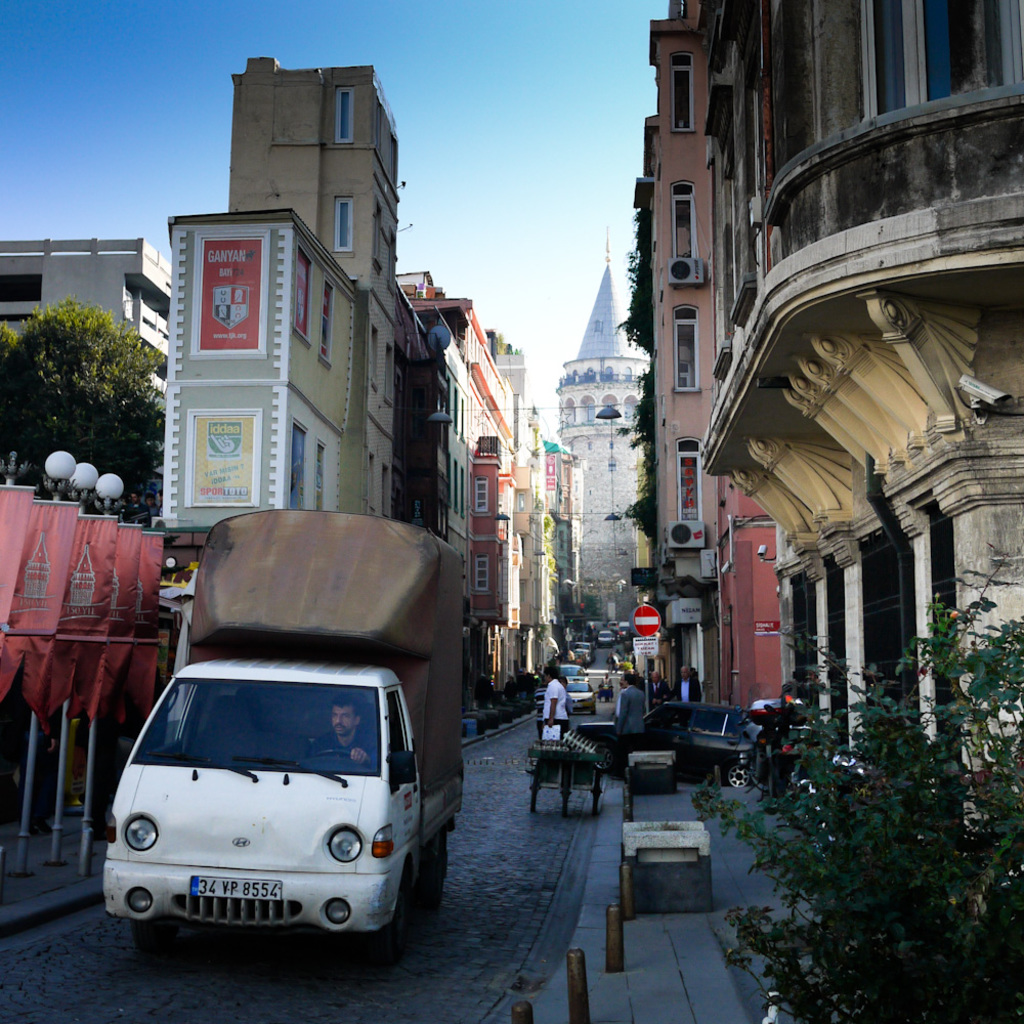truck: (71, 480, 500, 980)
